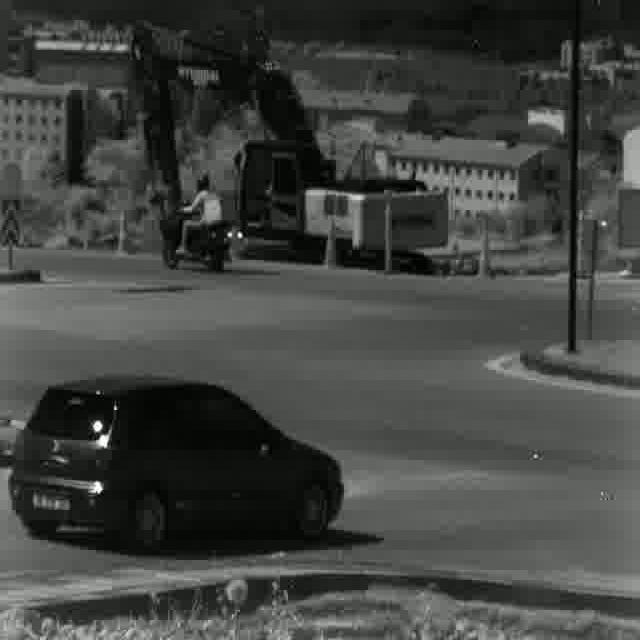Car: (9, 378, 344, 542)
Motorcycle: (158, 176, 232, 272)
